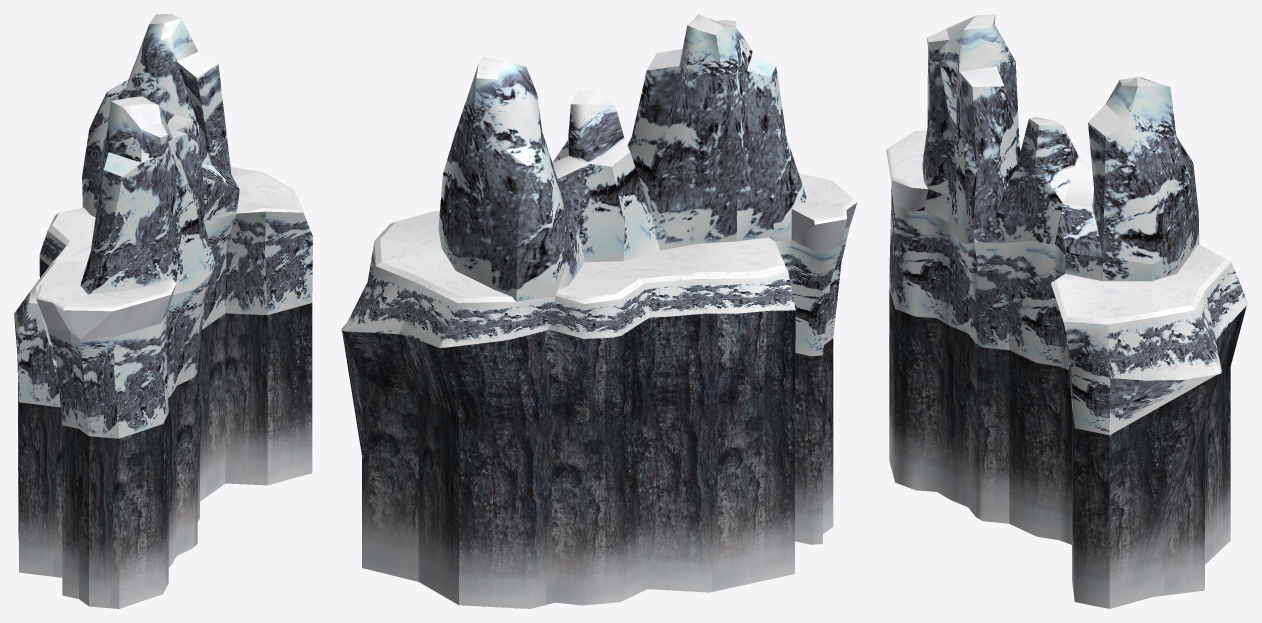
The model's file is san002.obj.
3 views of the same model, side by side, from view 1: azimuth 30°, elevation 25°; view 2: azimuth 150°, elevation 25°; view 3: azimuth 270°, elevation 25° (orthographic). The views are drawn at different scales.
Visible parts, largest first — view 1: san002; view 2: san002; view 3: san002.
Boxes of the visible parts, x1=… form: san002: x1=14, y1=14, x2=312, y2=608; san002: x1=341, y1=14, x2=857, y2=608; san002: x1=886, y1=14, x2=1247, y2=608.
Size of the model in its own units: 940 by 1179 by 822.
